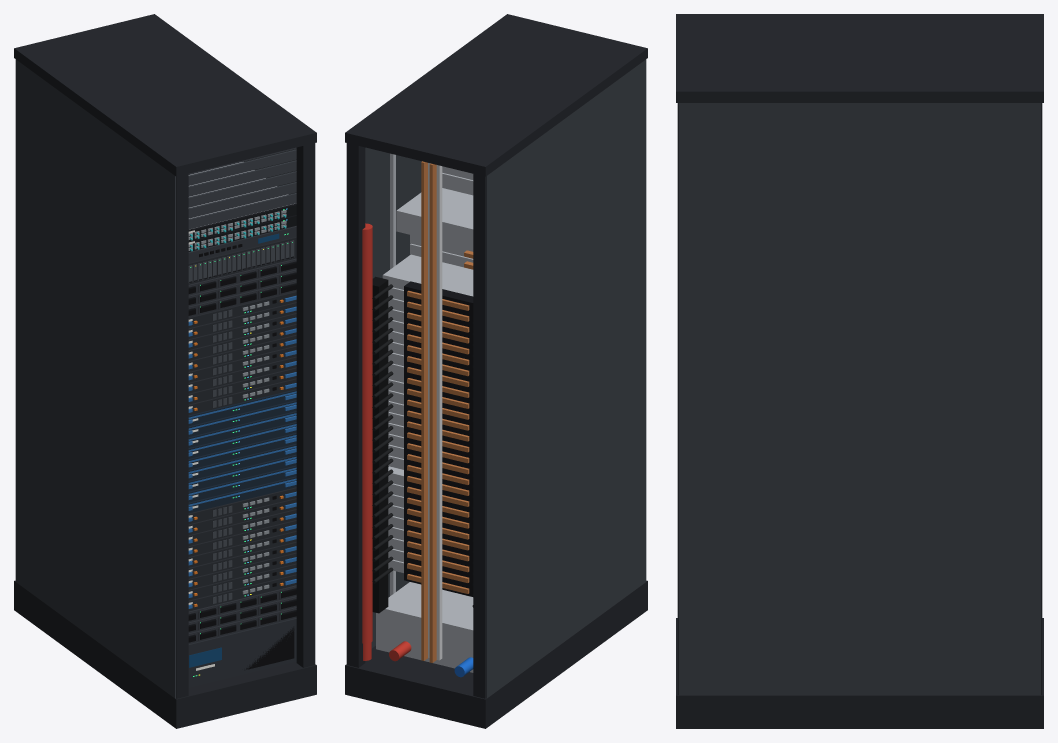
File: hyperscale_rack.glb
3 renders of one model, left to right at view 1: azimuth 30°, elevation 25°; view 2: azimuth 150°, elevation 25°; view 3: azimuth 270°, elevation 25°, orthographic. The views are drawn at different scales.
Visible parts, largest first — view 1: side_panel_l, top_cap, base_plinth, post_3, post_2, cdu_face, storage_node_0, blank_panel_0, blank_panel_3, blank_panel_1, blank_panel_2, blank_panel_4 (+35 smaller); view 2: side_panel_l, top_cap, base_plinth, nvlink_backplane, post_1, post_0, side_panel_r, cdu_chassis, manifold_return, busbar_guard, busbar_pos, pdu_1 (+4 smaller); view 3: side_panel_r, top_cap, base_plinth, post_1, post_3.
Boxes of the visible parts, <box> form: side_panel_l: <box>15,59,176,698</box>; top_cap: <box>14,14,316,176</box>; base_plinth: <box>14,580,316,728</box>; post_3: <box>296,143,314,667</box>; post_2: <box>176,174,188,698</box>; cdu_face: <box>188,618,296,687</box>; storage_node_0: <box>188,240,294,283</box>; blank_panel_0: <box>188,193,296,229</box>; blank_panel_3: <box>188,160,296,196</box>; blank_panel_1: <box>188,182,296,218</box>; blank_panel_2: <box>188,171,296,207</box>; blank_panel_4: <box>188,149,296,185</box>; side_panel_l: <box>485,59,646,698</box>; top_cap: <box>345,14,647,176</box>; base_plinth: <box>345,580,647,728</box>; nvlink_backplane: <box>404,281,473,596</box>; post_1: <box>347,143,365,667</box>; post_0: <box>473,174,485,698</box>; side_panel_r: <box>346,143,421,663</box>; cdu_chassis: <box>376,582,473,672</box>; manifold_return: <box>362,223,372,643</box>; busbar_guard: <box>428,163,442,660</box>; busbar_pos: <box>429,163,436,662</box>; pdu_1: <box>372,276,388,613</box>; side_panel_r: <box>679,103,1040,695</box>; top_cap: <box>676,14,1043,102</box>; base_plinth: <box>676,618,1043,728</box>; post_1: <box>1041,103,1042,694</box>; post_3: <box>677,103,678,694</box>.
Size of the model in its own units: 0.6 by 2.31 by 1.2.
